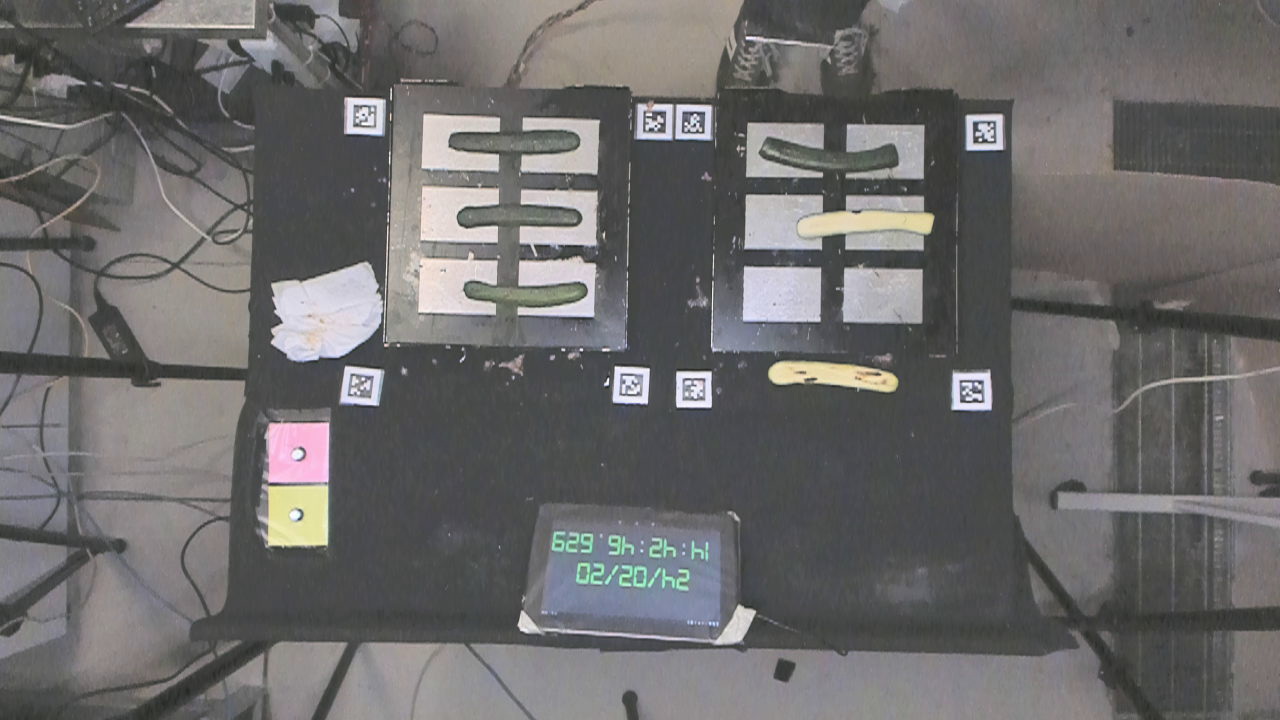marker: (262, 419, 335, 485)
zucchini: (755, 131, 901, 176), (757, 352, 912, 394), (461, 271, 592, 311), (793, 205, 937, 241), (447, 125, 586, 160), (457, 200, 587, 228)
